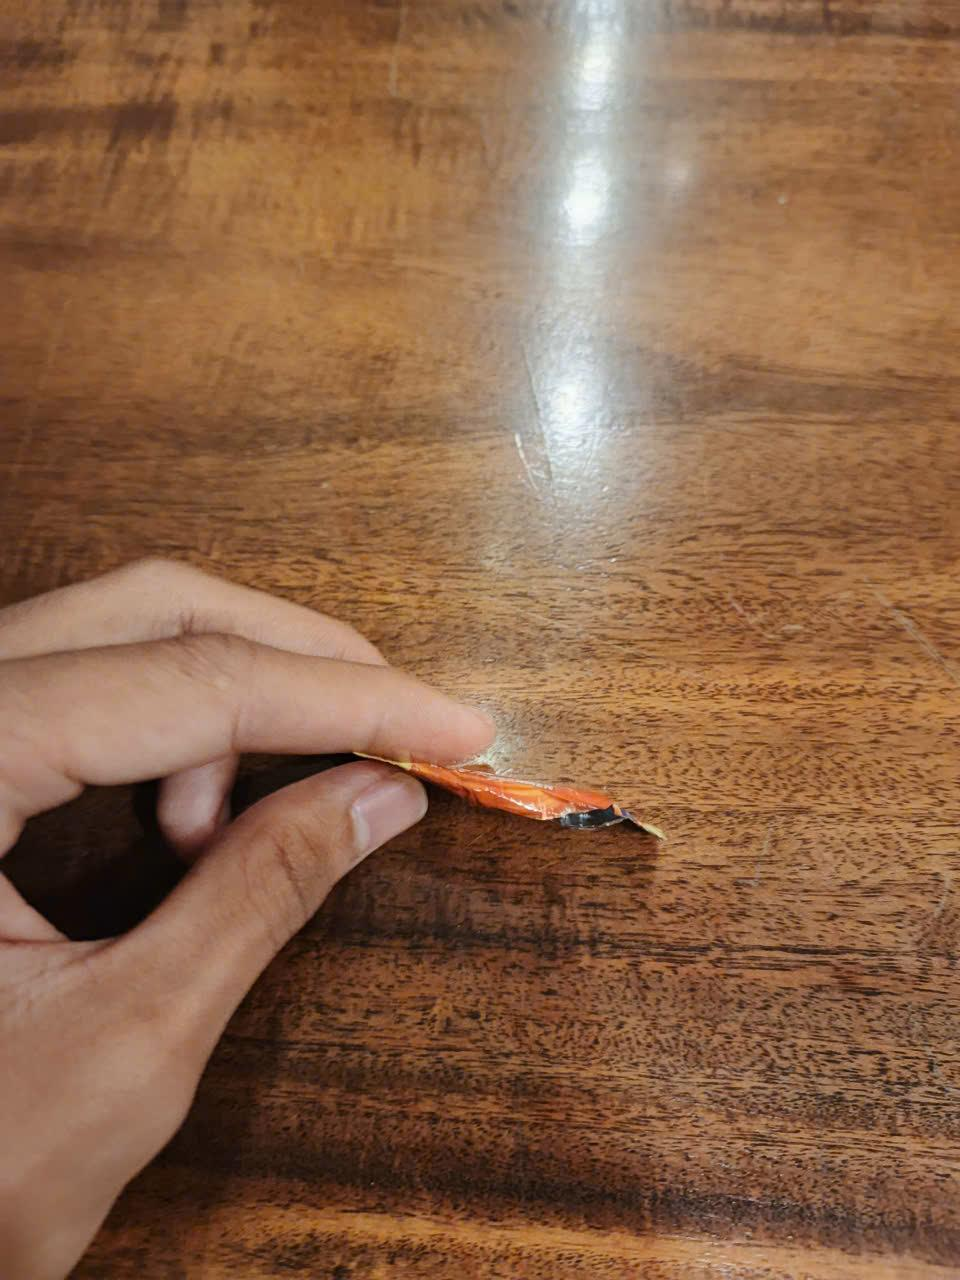Con lai: (360, 743, 674, 845)
